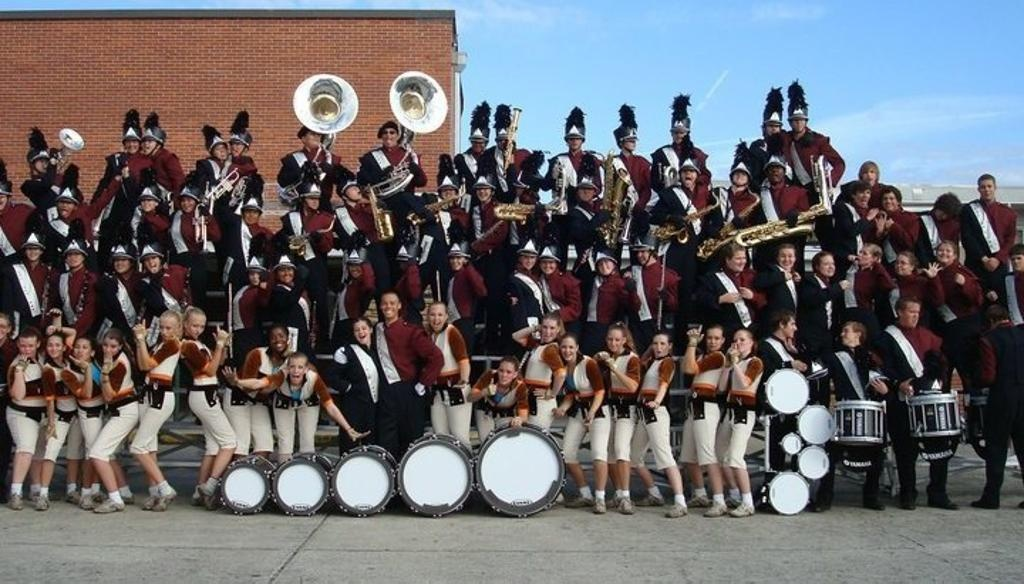human_face: (902, 298, 920, 328), (188, 312, 206, 338), (380, 292, 398, 318), (778, 312, 796, 338), (352, 320, 370, 344), (429, 305, 445, 331), (498, 359, 514, 385), (936, 241, 954, 263), (817, 254, 835, 276), (288, 358, 304, 382), (541, 318, 557, 342), (706, 327, 722, 351), (733, 330, 749, 354), (652, 334, 668, 358), (74, 338, 90, 361), (560, 337, 576, 360), (56, 197, 74, 217), (66, 246, 84, 266), (766, 162, 784, 182), (20, 335, 36, 357), (46, 336, 62, 358), (158, 316, 174, 338), (270, 328, 286, 350), (276, 262, 292, 284), (854, 186, 870, 208), (840, 323, 856, 345), (606, 329, 622, 351), (112, 253, 130, 272), (344, 181, 362, 200), (730, 248, 744, 272), (576, 182, 594, 200), (474, 182, 492, 200), (212, 140, 228, 160), (144, 252, 160, 272), (304, 127, 320, 147), (978, 178, 994, 198), (861, 165, 877, 185), (894, 255, 910, 275), (778, 246, 792, 268), (520, 250, 536, 268), (764, 120, 780, 138), (732, 167, 748, 185), (597, 256, 613, 274), (540, 256, 556, 274), (440, 182, 456, 200), (142, 134, 156, 154), (180, 192, 194, 212), (382, 126, 396, 146), (882, 190, 896, 210), (856, 244, 870, 264), (140, 192, 156, 209), (102, 340, 118, 357), (567, 134, 583, 150), (937, 204, 953, 220), (34, 155, 48, 173), (124, 135, 138, 153), (304, 191, 318, 209), (248, 267, 262, 285), (672, 126, 686, 144), (681, 164, 695, 182), (636, 246, 650, 264), (349, 260, 363, 278), (448, 252, 462, 270), (1009, 253, 1023, 271), (26, 243, 40, 259), (244, 206, 258, 222), (470, 135, 484, 151), (790, 114, 804, 130), (230, 138, 242, 156), (622, 134, 634, 150), (496, 132, 506, 150), (0, 316, 6, 340), (0, 191, 7, 211)
